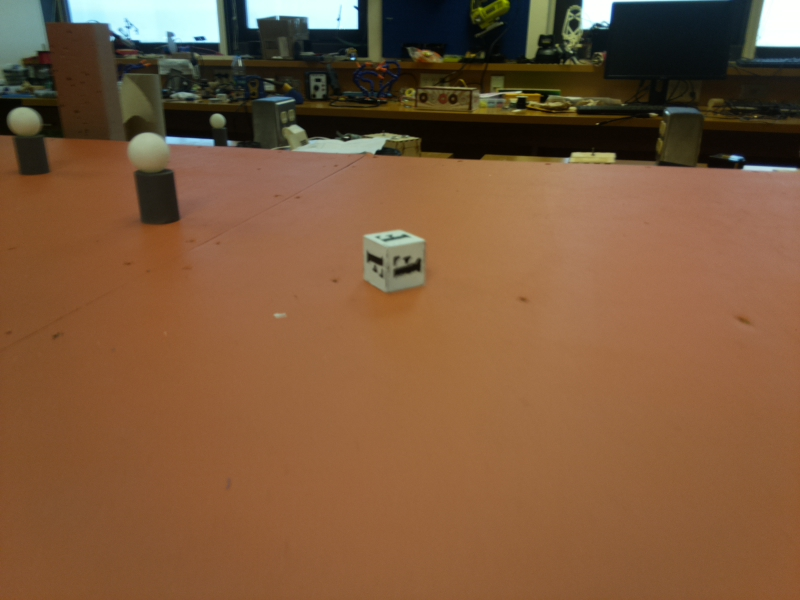blockF: (355, 223, 433, 297)
obstacle: (134, 127, 173, 231), (9, 101, 47, 178)
